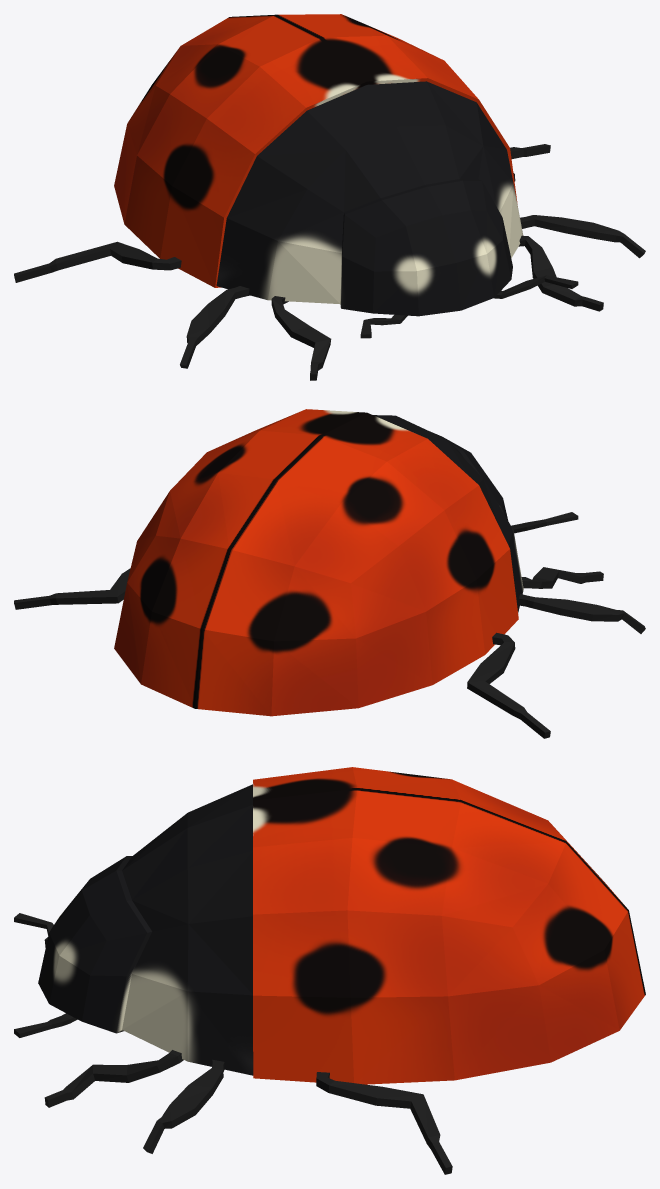
The model's file is coccinelle.glb.
3 renders of one model, top to bottom at view 1: azimuth 30°, elevation 25°; view 2: azimuth 150°, elevation 25°; view 3: azimuth 270°, elevation 25°, orthographic. The views are drawn at different scales.
Visible parts, largest first — view 1: Node; view 2: Node; view 3: Node.
Boxes of the visible parts, <box> form: Node: <box>14,14,645,380</box>; Node: <box>14,409,645,738</box>; Node: <box>14,767,645,1174</box>.
Bounding box in the file's own units: 1.4 × 0.5191 × 1.25.
2 materials, 1 textured.
